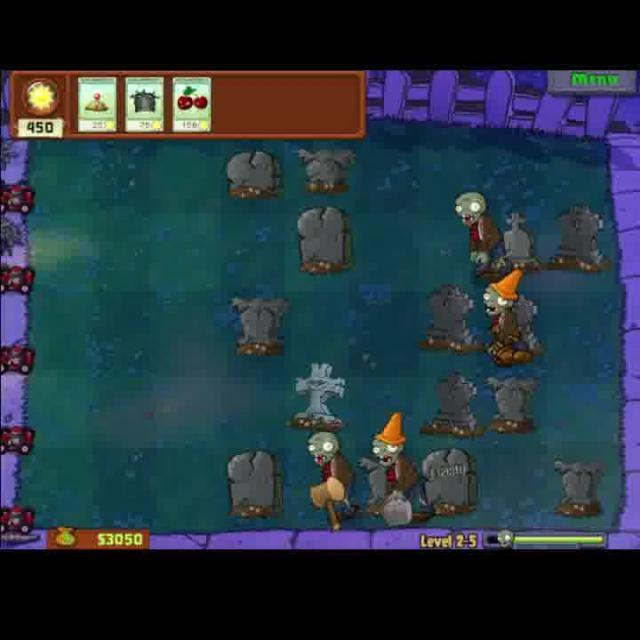zombies: (354, 410, 428, 530), (304, 426, 358, 530), (449, 188, 506, 276), (484, 270, 530, 362)
